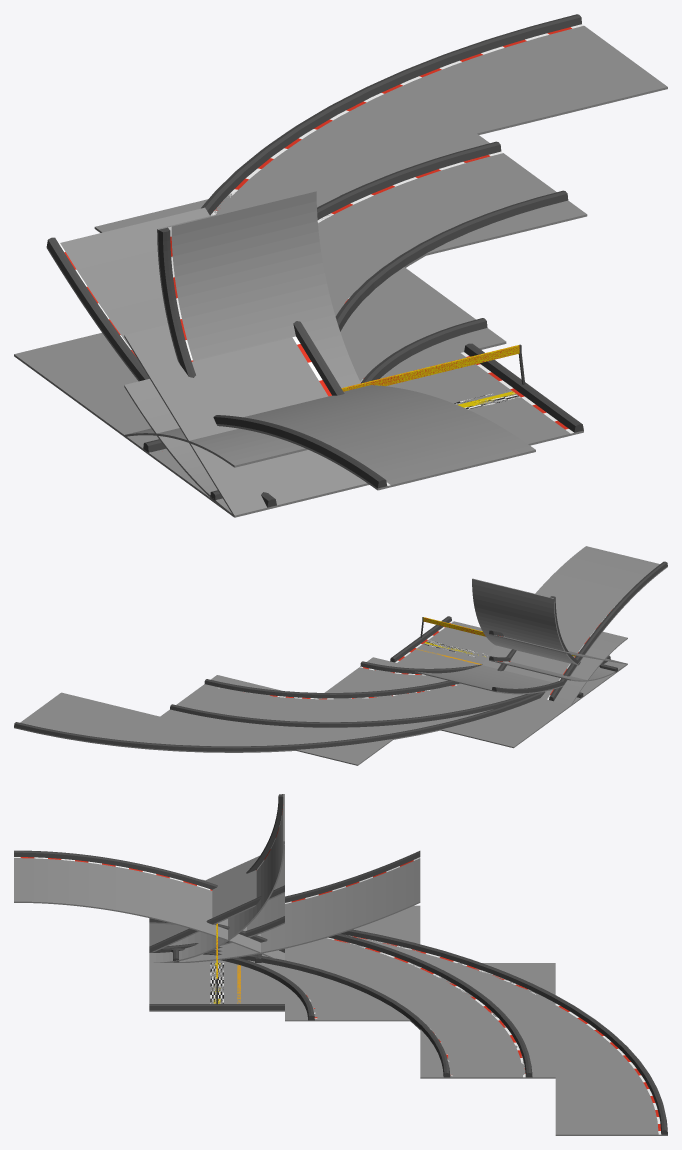
File: road_wide.glb
3 renders of one model, top to bottom at view 1: azimuth 30°, elevation 25°; view 2: azimuth 150°, elevation 25°; view 3: azimuth 270°, elevation 25°, orthographic. The views are drawn at different scales.
Parts seen in each view (by area): view 1: TurnLongLeftWide, TurnShortLeftWide, SlopeUpVerticalWide, SlopeWide, SlopeDownLongWide, TurnLongRightWide, SlopeUpLongWide, CheckpointWide, TurnShortRightWide, SlopeDownWide, SlopeUpWide, FinishWide (+1 smaller); view 2: TurnLongLeftWide, TurnLongRightWide, SlopeDownLongWide, TurnShortLeftWide, SlopeUpVerticalWide, TurnShortRightWide, CheckpointWide, SlopeUpLongWide, StartWide, SlopeDownWide, FinishWide, SlopeUpWide (+1 smaller); view 3: TurnLongLeftWide, TurnShortLeftWide, SlopeDownLongWide, TurnLongRightWide, SlopeUpLongWide, TurnShortRightWide, CheckpointWide, StartWide, SlopeUpVerticalWide, SlopeWide, FinishWide, SlopeUpWide.
Boxes of the visible parts, bbox=[...] form: TurnLongLeftWide: bbox=[201, 14, 667, 509]; TurnShortLeftWide: bbox=[267, 141, 587, 508]; SlopeUpVerticalWide: bbox=[157, 190, 360, 507]; SlopeWide: bbox=[124, 321, 366, 515]; SlopeDownLongWide: bbox=[213, 385, 535, 490]; TurnLongRightWide: bbox=[14, 133, 568, 516]; SlopeUpLongWide: bbox=[46, 207, 209, 381]; CheckpointWide: bbox=[341, 343, 583, 444]; TurnShortRightWide: bbox=[124, 263, 487, 517]; SlopeDownWide: bbox=[125, 428, 307, 467]; SlopeUpWide: bbox=[124, 379, 236, 515]; FinishWide: bbox=[343, 346, 530, 416]; TurnLongLeftWide: bbox=[14, 685, 545, 752]; TurnLongRightWide: bbox=[160, 673, 614, 765]; SlopeDownLongWide: bbox=[482, 546, 667, 700]; TurnShortLeftWide: bbox=[170, 657, 536, 727]; SlopeUpVerticalWide: bbox=[472, 578, 610, 666]; TurnShortRightWide: bbox=[317, 661, 627, 718]; CheckpointWide: bbox=[390, 616, 575, 700]; SlopeUpLongWide: bbox=[415, 665, 563, 694]; StartWide: bbox=[392, 618, 553, 701]; SlopeDownWide: bbox=[497, 632, 627, 705]; FinishWide: bbox=[400, 617, 574, 668]; SlopeUpWide: bbox=[489, 656, 626, 681]; TurnLongLeftWide: bbox=[190, 929, 667, 1135]; TurnShortLeftWide: bbox=[201, 933, 532, 1078]; SlopeDownLongWide: bbox=[14, 850, 284, 960]; TurnLongRightWide: bbox=[209, 905, 555, 1078]; SlopeUpLongWide: bbox=[160, 851, 420, 962]; TurnShortRightWide: bbox=[151, 948, 420, 1021]; CheckpointWide: bbox=[149, 923, 284, 1011]; StartWide: bbox=[149, 960, 284, 1011]; SlopeUpVerticalWide: bbox=[149, 794, 284, 962]; SlopeWide: bbox=[149, 844, 284, 952]; FinishWide: bbox=[197, 924, 277, 1003]; SlopeUpWide: bbox=[162, 893, 284, 948].
Bounding box in the file's own units: 80 × 20 × 96.57.
